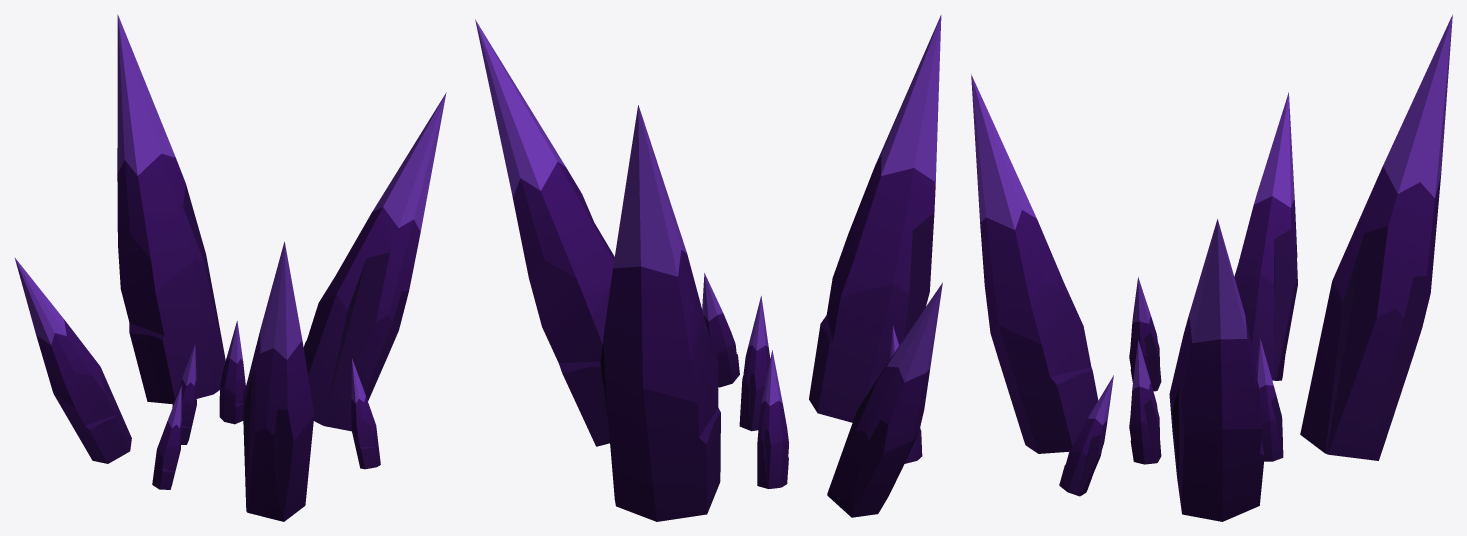
File: Spike03.fbx
3 views of the same model, side by side, from view 1: azimuth 30°, elevation 25°; view 2: azimuth 150°, elevation 25°; view 3: azimuth 270°, elevation 25° (orthographic). The views are drawn at different scales.
Visible parts, largest first — view 1: Spike03; view 2: Spike03; view 3: Spike03.
Boxes of the visible parts, x1,y1,x2,y2 form: Spike03: (14, 14, 446, 521); Spike03: (475, 15, 942, 521); Spike03: (971, 14, 1452, 521).
Size of the model in its own units: 141 by 125 by 124.
